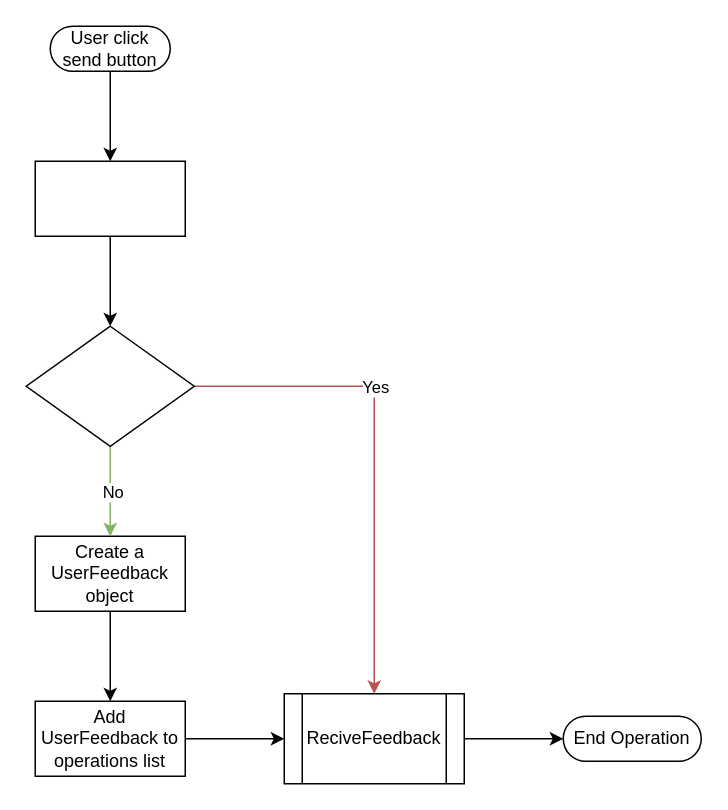
This 728x810 diagram has some shape labels left out. The shapes that lost their labels are listed below. From the top down, each one's centre as x and y in pixels, then its label:
[109,198]: Send info to Back-End
[109,385]: Operation Already Open?
